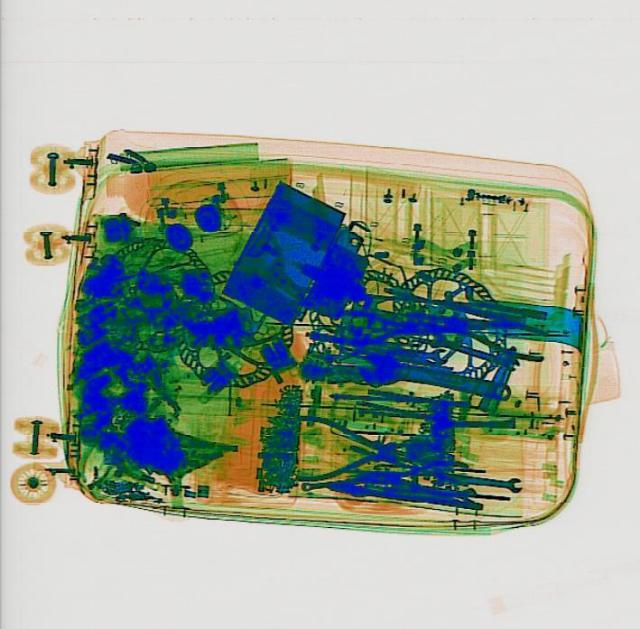Pliers: (283, 413, 395, 482)
Wrench: (354, 348, 514, 405), (435, 464, 521, 493)
